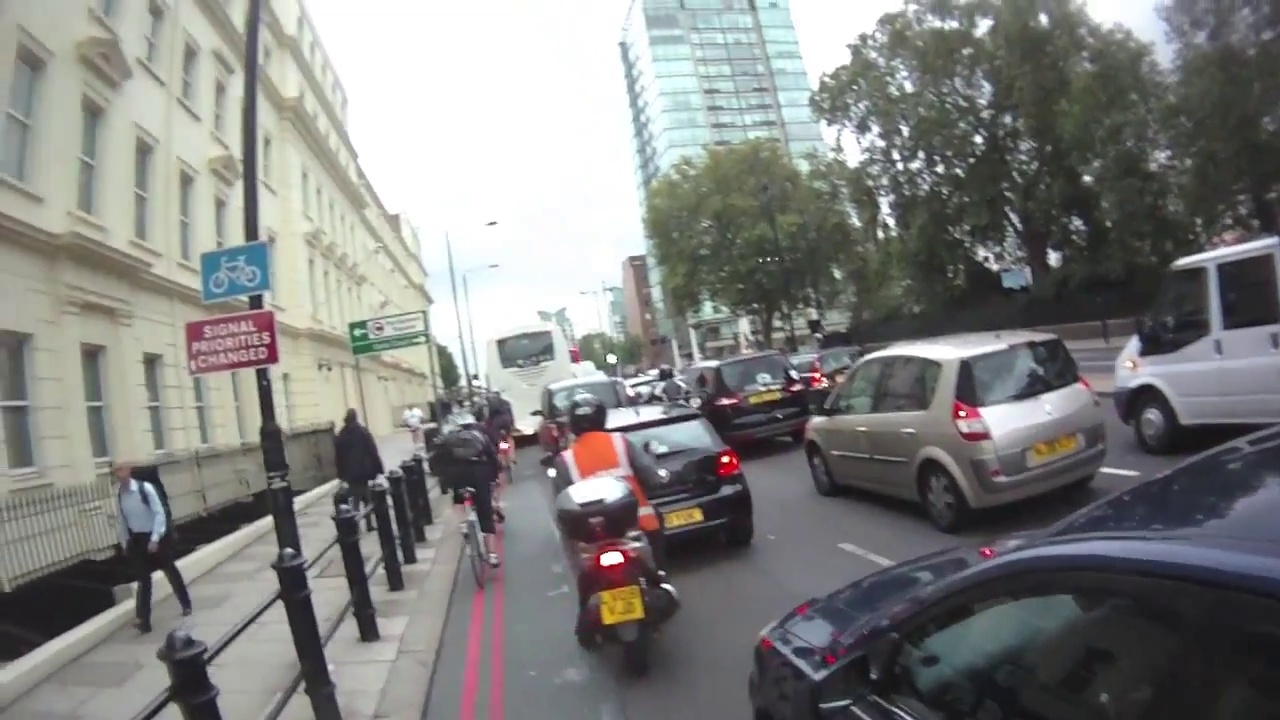cyclist_back: (549, 391, 683, 659), (438, 406, 505, 591), (483, 387, 523, 484)
